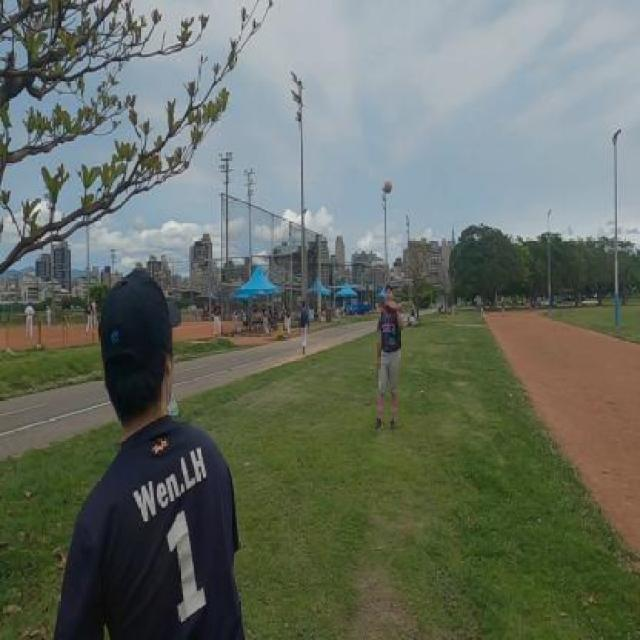baseball: (385, 179, 392, 195)
